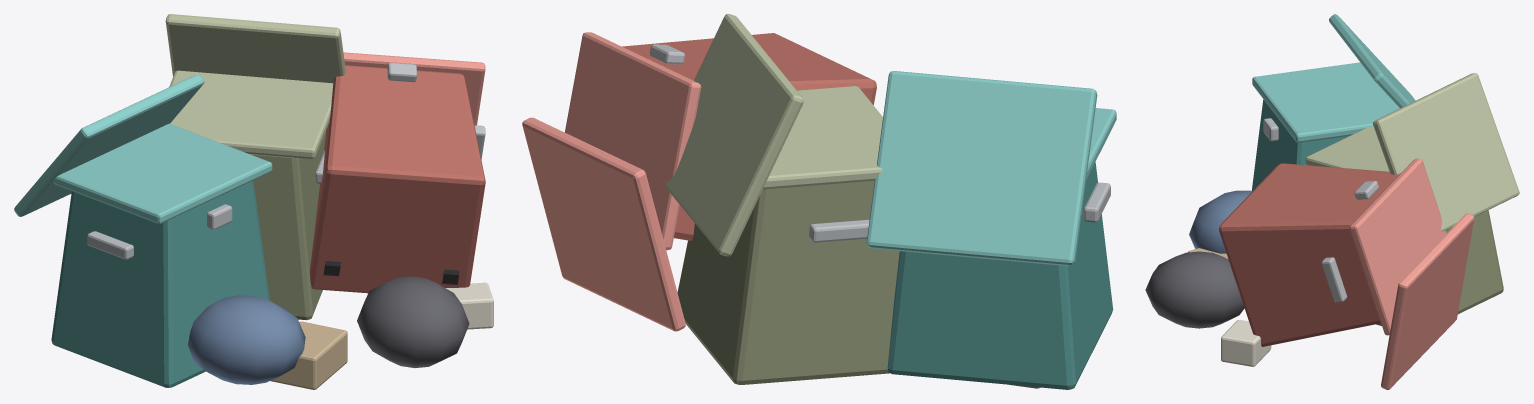
File: misc_dumpster_pile.glb
The picture shows the model from 3 angles, left to right: view 1: azimuth 30°, elevation 25°; view 2: azimuth 150°, elevation 25°; view 3: azimuth 270°, elevation 25°; orthographic projection. The views are drawn at different scales.
Parts seen in each view (by area): view 1: bin_misc_dumpster_pile_1_shell, bin_misc_dumpster_pile_0_shell, bin_misc_dumpster_pile_0_rim, bin_misc_dumpster_pile_2_rim, bin_misc_dumpster_pile_2_lid, bin_misc_dumpster_pile_2_shell, misc_dumpster_pile_bag_1, misc_dumpster_pile_bag_0, bin_misc_dumpster_pile_0_lid, misc_dumpster_pile_crate_0, bin_misc_dumpster_pile_1_rim, misc_dumpster_pile_crate_1 (+3 smaller); view 2: bin_misc_dumpster_pile_0_lid, bin_misc_dumpster_pile_2_shell, bin_misc_dumpster_pile_0_shell, bin_misc_dumpster_pile_1_lid, bin_misc_dumpster_pile_2_lid, bin_misc_dumpster_pile_1_rim, bin_misc_dumpster_pile_2_rim, bin_misc_dumpster_pile_1_shell, bin_misc_dumpster_pile_2_handle_l, bin_misc_dumpster_pile_0_rim, bin_misc_dumpster_pile_0_handle_l, bin_misc_dumpster_pile_1_latch; view 3: bin_misc_dumpster_pile_1_shell, bin_misc_dumpster_pile_2_lid, bin_misc_dumpster_pile_1_rim, bin_misc_dumpster_pile_0_rim, bin_misc_dumpster_pile_1_lid, misc_dumpster_pile_bag_0, bin_misc_dumpster_pile_2_shell, bin_misc_dumpster_pile_0_shell, bin_misc_dumpster_pile_2_rim, misc_dumpster_pile_bag_1, bin_misc_dumpster_pile_0_lid, misc_dumpster_pile_crate_1 (+2 smaller).
Part boxes in pixels (<box>): bin_misc_dumpster_pile_1_shell: <box>310,65,485,293</box>; bin_misc_dumpster_pile_0_shell: <box>51,181,269,387</box>; bin_misc_dumpster_pile_0_rim: <box>53,123,272,223</box>; bin_misc_dumpster_pile_2_rim: <box>169,70,333,158</box>; bin_misc_dumpster_pile_2_lid: <box>165,14,345,83</box>; bin_misc_dumpster_pile_2_shell: <box>249,131,325,320</box>; misc_dumpster_pile_bag_1: <box>188,295,305,384</box>; misc_dumpster_pile_bag_0: <box>357,276,469,367</box>; bin_misc_dumpster_pile_0_lid: <box>14,74,204,216</box>; misc_dumpster_pile_crate_0: <box>270,321,347,389</box>; bin_misc_dumpster_pile_1_rim: <box>343,52,485,125</box>; misc_dumpster_pile_crate_1: <box>445,282,493,329</box>; bin_misc_dumpster_pile_0_lid: <box>866,71,1097,266</box>; bin_misc_dumpster_pile_2_shell: <box>677,180,899,384</box>; bin_misc_dumpster_pile_0_shell: <box>887,162,1113,389</box>; bin_misc_dumpster_pile_1_lid: <box>522,117,685,331</box>; bin_misc_dumpster_pile_2_lid: <box>665,14,803,256</box>; bin_misc_dumpster_pile_1_rim: <box>565,32,701,250</box>; bin_misc_dumpster_pile_2_rim: <box>763,86,882,189</box>; bin_misc_dumpster_pile_1_shell: <box>622,33,876,240</box>; bin_misc_dumpster_pile_2_handle_l: <box>809,219,869,242</box>; bin_misc_dumpster_pile_0_rim: <box>1086,108,1116,179</box>; bin_misc_dumpster_pile_0_handle_l: <box>1083,182,1110,222</box>; bin_misc_dumpster_pile_1_latch: <box>649,44,684,64</box>; bin_misc_dumpster_pile_1_shell: <box>1219,163,1400,346</box>; bin_misc_dumpster_pile_2_lid: <box>1373,73,1519,231</box>; bin_misc_dumpster_pile_1_rim: <box>1350,158,1446,335</box>; bin_misc_dumpster_pile_0_rim: <box>1252,62,1399,142</box>; bin_misc_dumpster_pile_1_lid: <box>1381,213,1474,389</box>; misc_dumpster_pile_bag_0: <box>1145,251,1244,328</box>; bin_misc_dumpster_pile_2_shell: <box>1376,210,1503,325</box>; bin_misc_dumpster_pile_0_shell: <box>1251,99,1348,190</box>; bin_misc_dumpster_pile_2_rim: <box>1305,126,1389,171</box>; misc_dumpster_pile_bag_1: <box>1189,190,1252,253</box>; bin_misc_dumpster_pile_0_lid: <box>1329,14,1415,107</box>; misc_dumpster_pile_crate_1: <box>1221,320,1271,366</box>.
Bounding box in the file's own units: 2.95 × 1.52 × 2.4.
